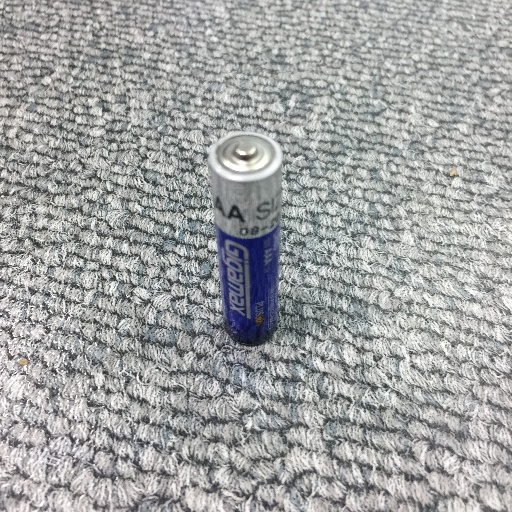Battery_0: (195, 120, 293, 353)
